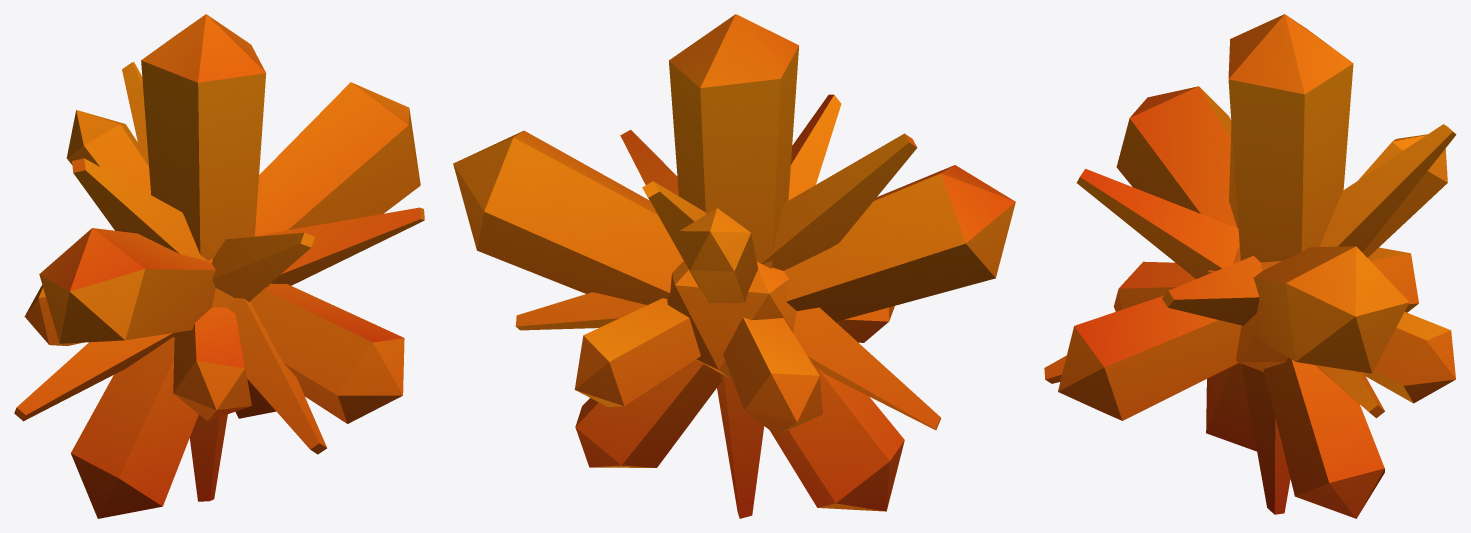
3 renders of one model, left to right at view 1: azimuth 30°, elevation 25°; view 2: azimuth 150°, elevation 25°; view 3: azimuth 270°, elevation 25°, orthographic. The views are drawn at different scales.
Parts seen in each view (by area): view 1: object.021; view 2: object.021; view 3: object.021.
Boxes of the visible parts, x1=… form: object.021: x1=14, y1=14, x2=424, y2=518; object.021: x1=453, y1=14, x2=1015, y2=518; object.021: x1=1044, y1=14, x2=1456, y2=518.
Size of the model in its own units: 153 by 161 by 120.
